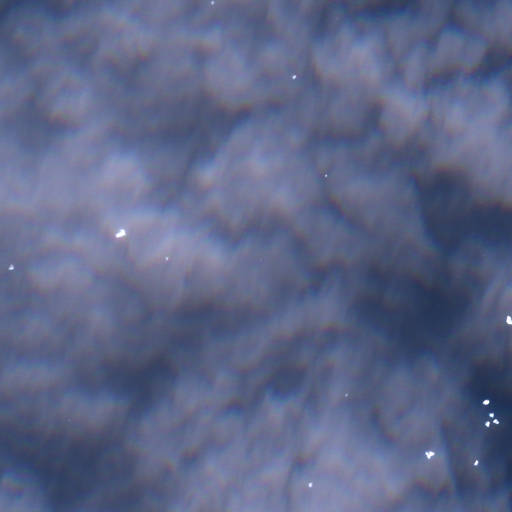Iceberg: (116, 229, 125, 237), (425, 451, 434, 458), (506, 315, 511, 324), (482, 399, 489, 404), (8, 264, 13, 269), (493, 419, 498, 424), (485, 421, 489, 427), (489, 413, 494, 417), (474, 460, 478, 465), (308, 482, 312, 487), (292, 75, 296, 79), (165, 257, 168, 260), (211, 1, 213, 4), (325, 174, 327, 176), (345, 394, 347, 396)
